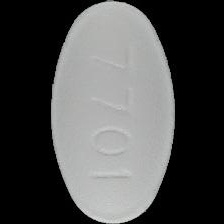43063-479: (0, 0, 224, 224)
